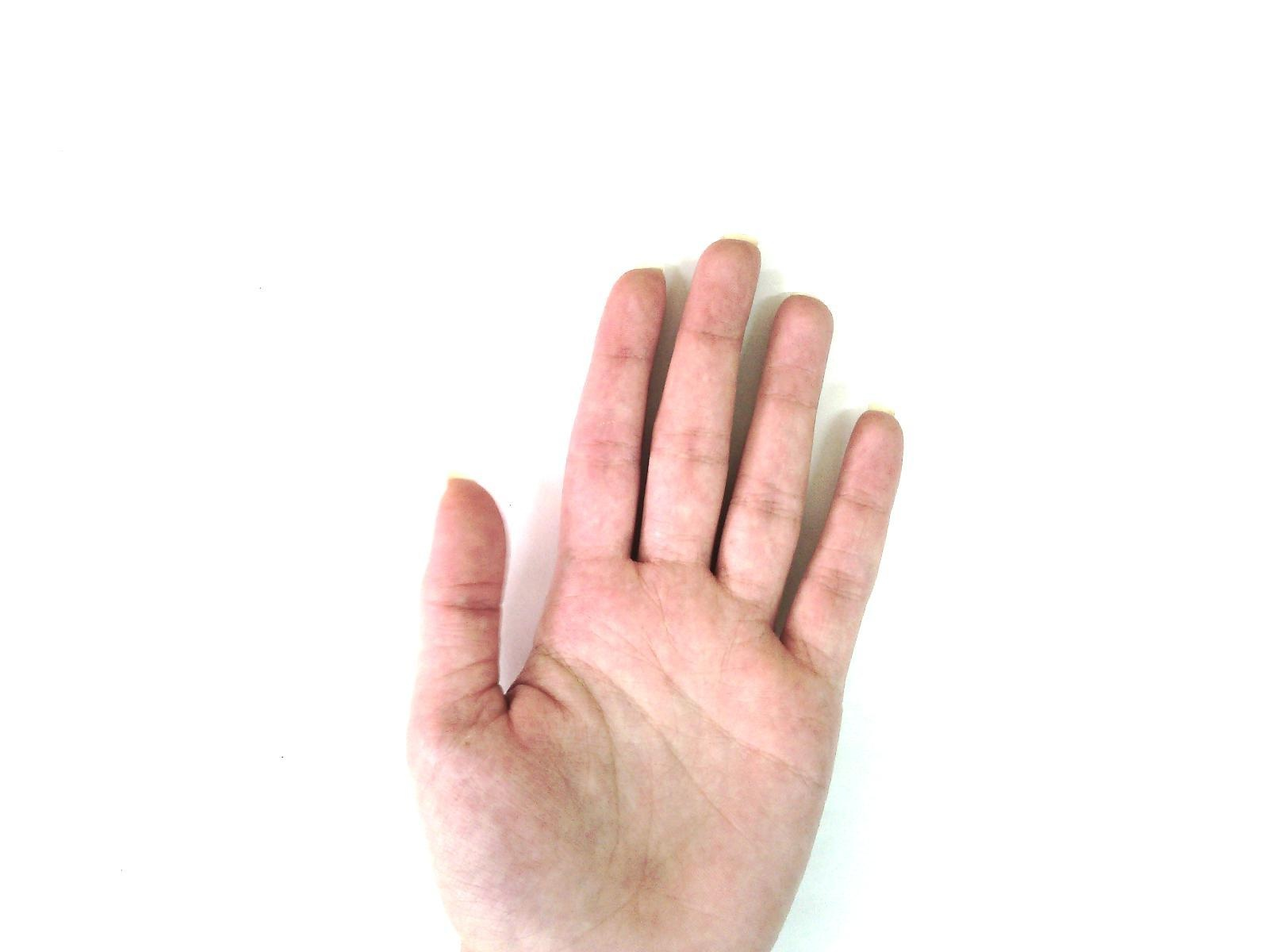open_palm: (404, 236, 907, 952)
